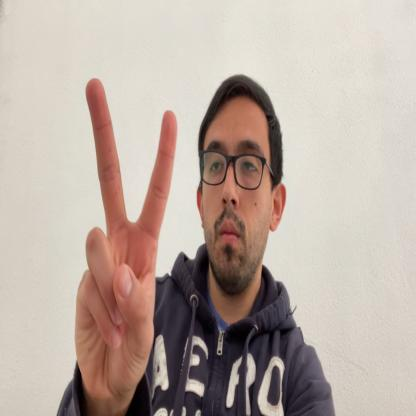V: (73, 77, 177, 408)
